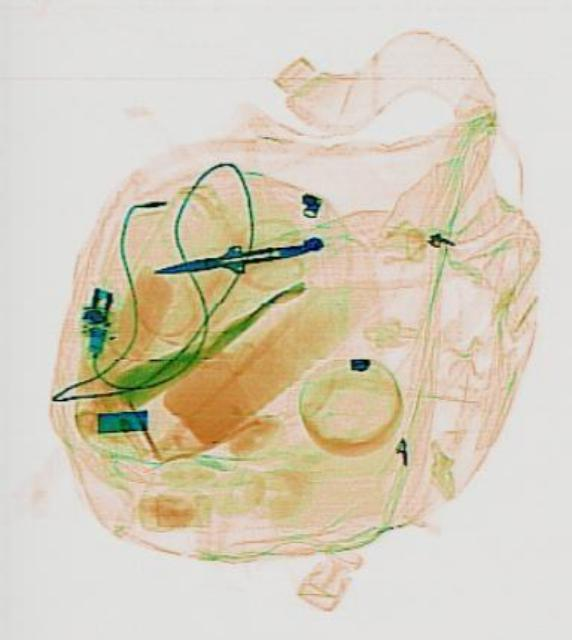Knife: (148, 231, 300, 285)
